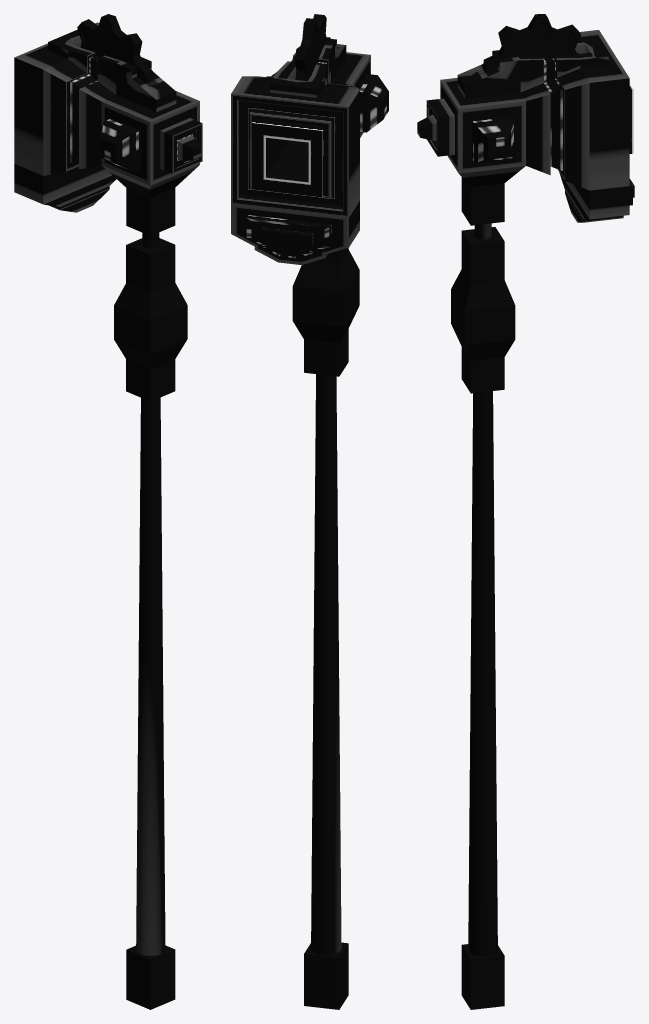
Rendered from Dispenser_2_0.fbx.
3 views of the same model, side by side, from view 1: azimuth 30°, elevation 25°; view 2: azimuth 150°, elevation 25°; view 3: azimuth 270°, elevation 25° (orthographic). The views are drawn at different scales.
Parts seen in each view (by area): view 1: Dispenser, Dispenser_Prop_0, Dispenser_Prop_1, Gear; view 2: Dispenser, Dispenser_Prop_0, Dispenser_Prop_1, Gear; view 3: Dispenser, Dispenser_Prop_0, Dispenser_Prop_1, Gear.
Part boxes in pixels (left/top/right/bottom): Dispenser: left=14, top=22, right=202, bottom=212; Dispenser_Prop_0: left=126, top=188, right=175, bottom=1009; Dispenser_Prop_1: left=114, top=238, right=187, bottom=401; Gear: left=77, top=14, right=153, bottom=83; Dispenser: left=231, top=38, right=388, bottom=264; Dispenser_Prop_0: left=304, top=374, right=348, bottom=1009; Dispenser_Prop_1: left=292, top=247, right=359, bottom=376; Gear: left=294, top=14, right=330, bottom=81; Dispenser: left=417, top=30, right=634, bottom=222; Dispenser_Prop_0: left=461, top=177, right=504, bottom=1009; Dispenser_Prop_1: left=451, top=227, right=515, bottom=393; Gear: left=483, top=14, right=581, bottom=73.
Size of the model in its own units: 1.29 by 9.08 by 1.83.
1 material, 1 textured.
